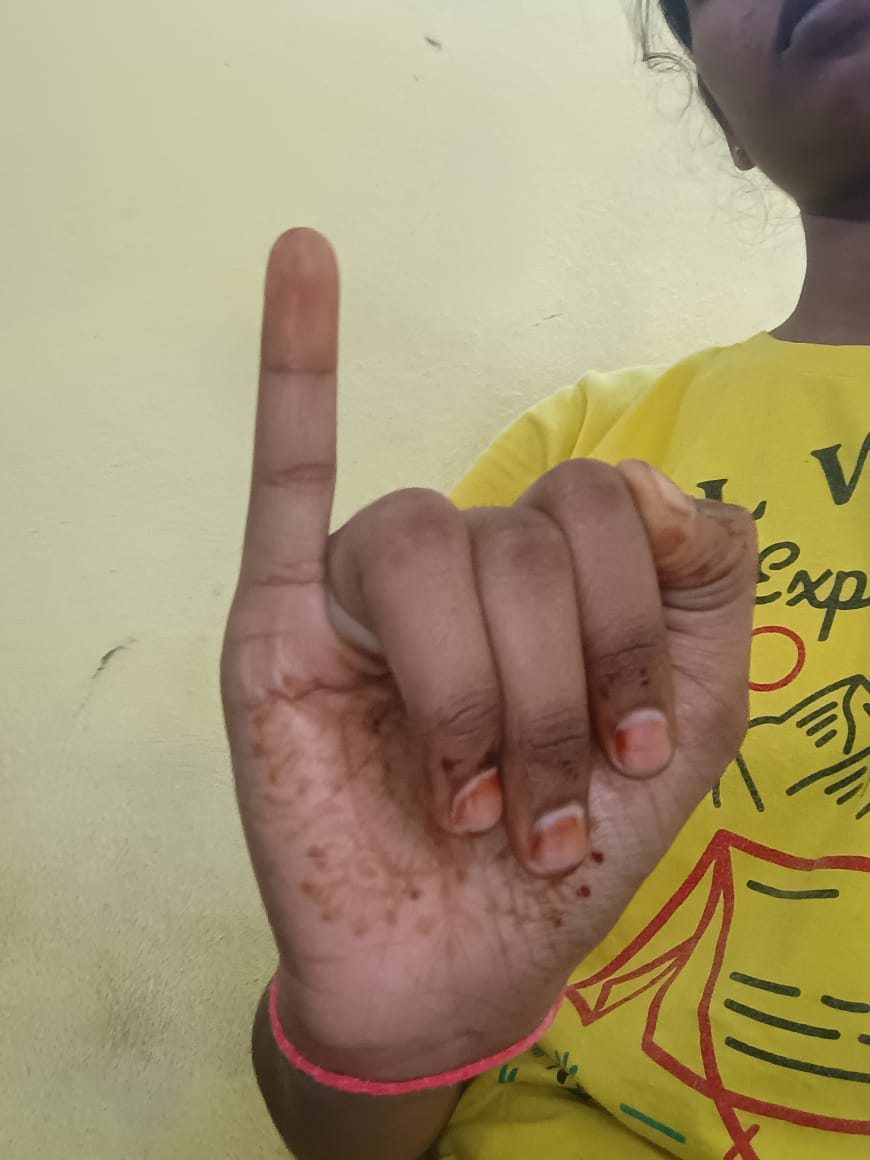I: (219, 227, 754, 960)
